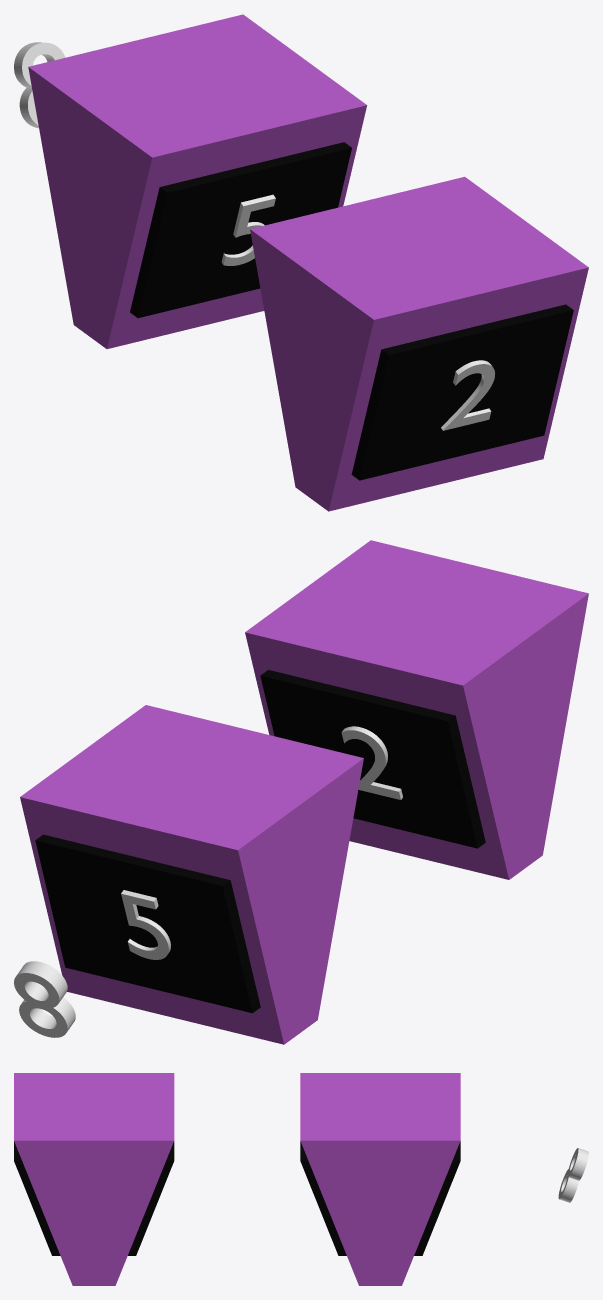
File: Numerador.fbx
3 views of the same model, one above another, from view 1: azimuth 30°, elevation 25°; view 2: azimuth 150°, elevation 25°; view 3: azimuth 270°, elevation 25° (orthographic). The views are drawn at different scales.
Parts seen in each view (by area): view 1: Numerador2, Numerador5, Text.003, Numero8, Text; view 2: Numerador5, Numerador2, Numero8, Text.001, Text.002; view 3: Numerador2, Numerador5, Numero8.
Boxes of the visible parts, x1,y1,x2,y2 form: Numerador2: (250, 176, 588, 511); Numerador5: (28, 14, 367, 348); Text.003: (441, 360, 495, 430); Numero8: (14, 42, 65, 128); Text: (221, 194, 275, 265); Numerador5: (20, 705, 363, 1044); Numerador2: (245, 540, 588, 879); Numero8: (14, 961, 75, 1037); Text.001: (121, 890, 170, 959); Text.002: (341, 726, 402, 799); Numerador2: (14, 1073, 174, 1285); Numerador5: (300, 1073, 460, 1285); Numero8: (558, 1148, 588, 1202).
Bounding box in the file's own units: 200 × 200 × 718.
